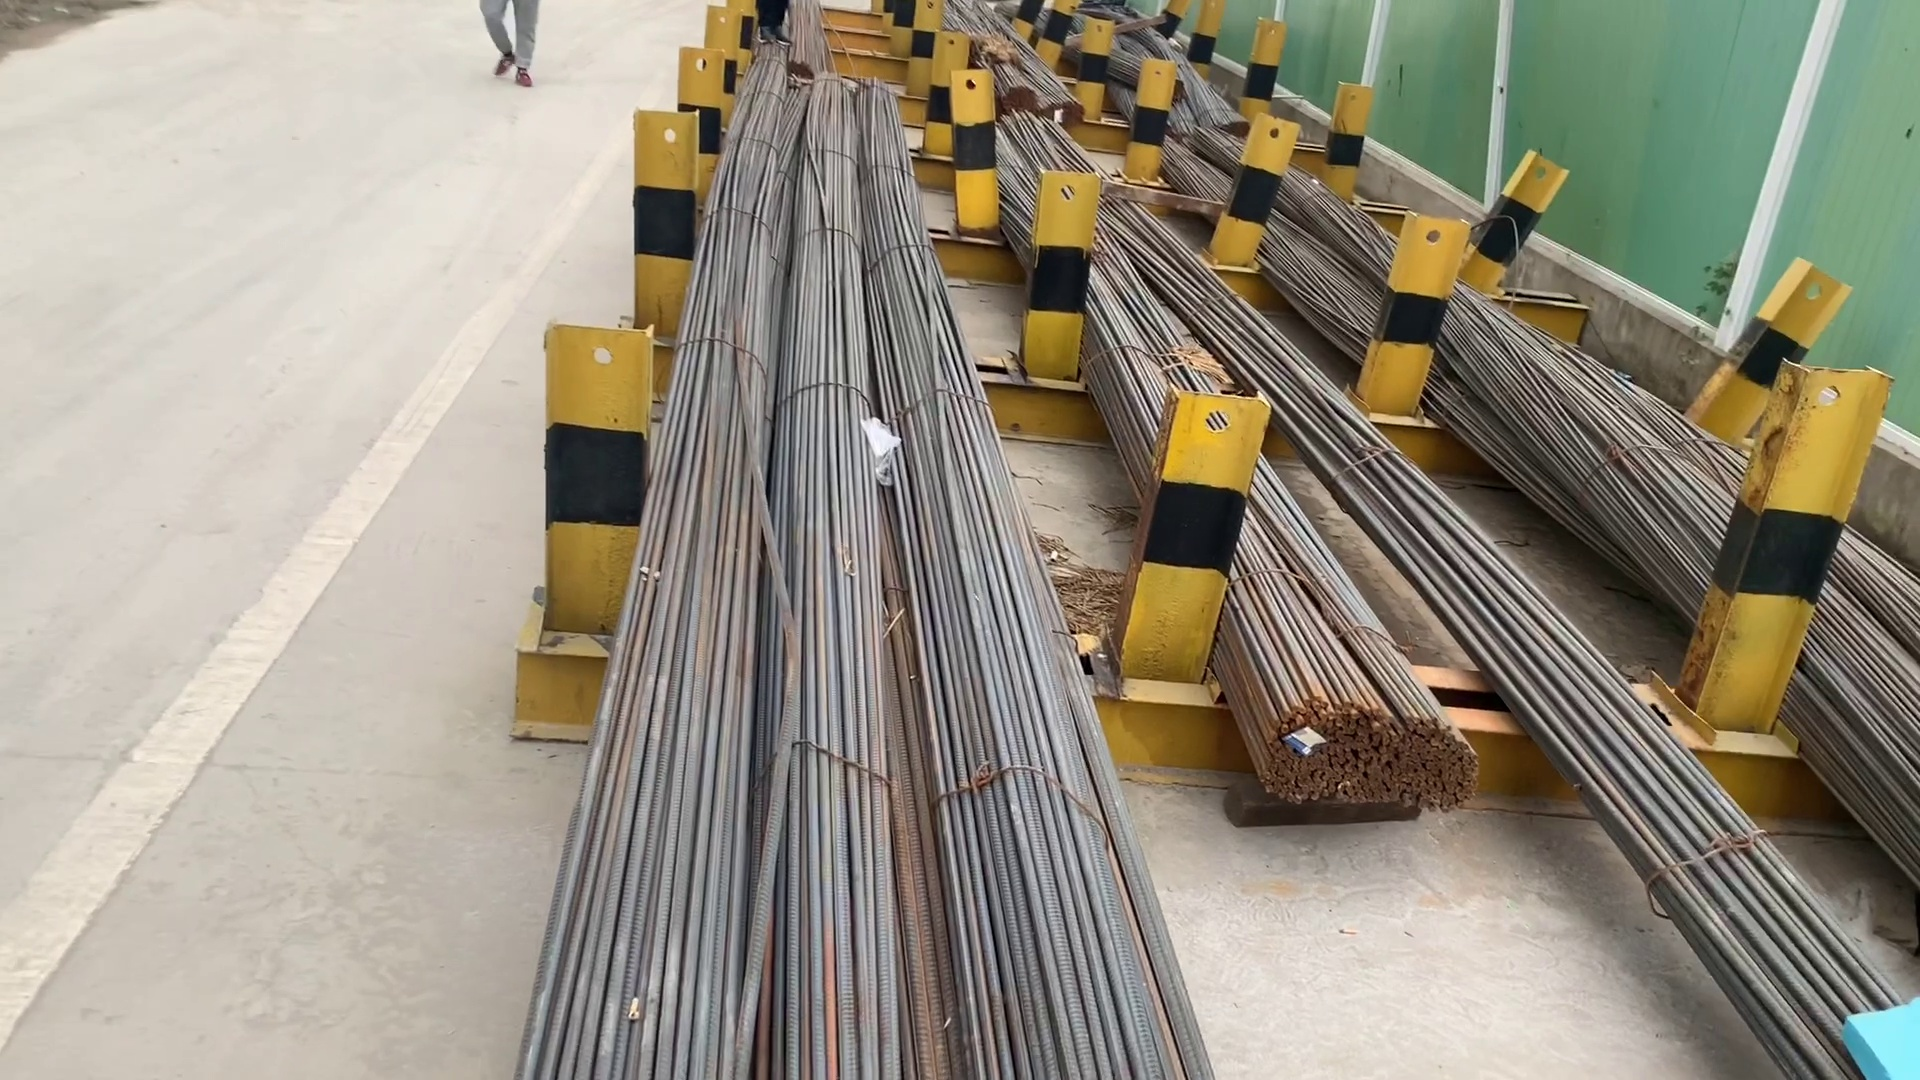rebar: (1261, 691, 1477, 816), (996, 80, 1038, 115), (1042, 98, 1089, 125)
